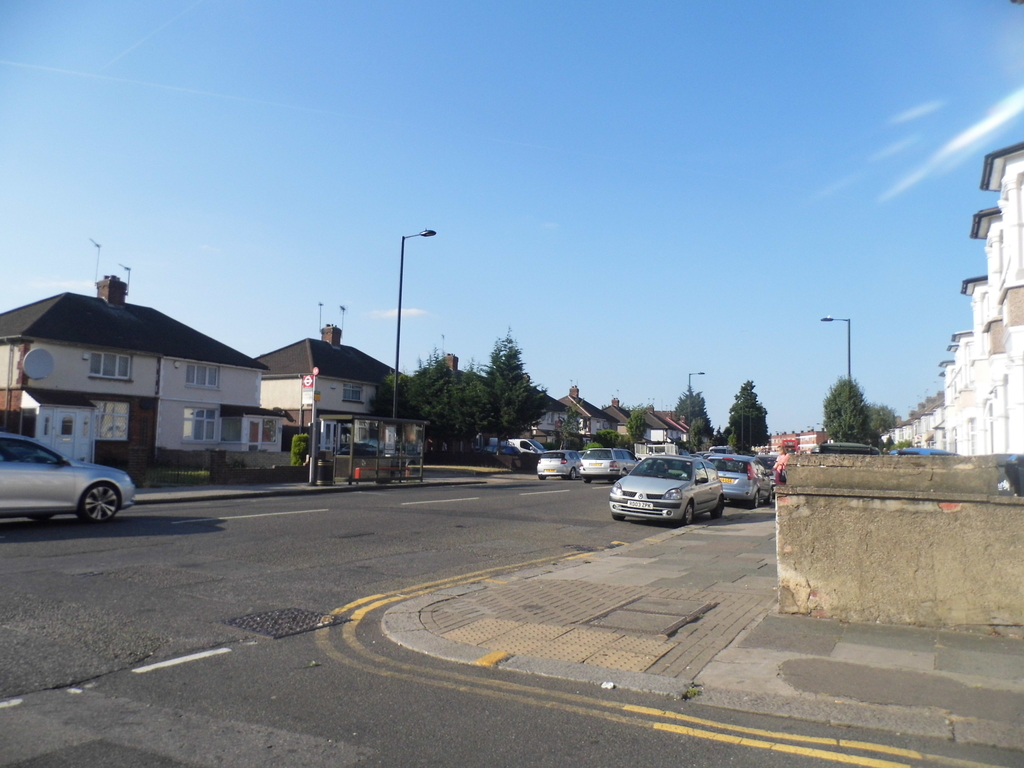Car: (532, 445, 881, 530), (0, 430, 136, 526)
